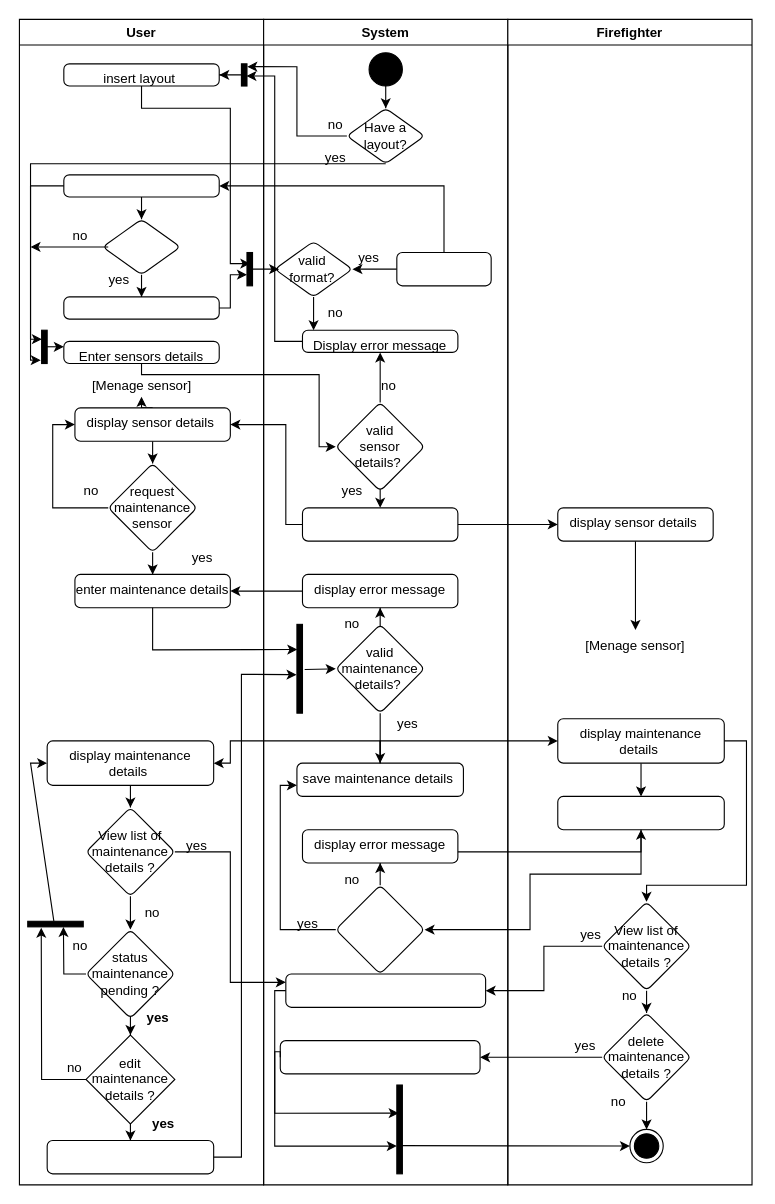
Image size: 775x1204. Some labels were removed from this diagram. Here are the shapes that lost their labels. From the top down, the centre of each, then its label:
the point at 141,185: display layout
the point at 141,246: edit layout?
the point at 443,268: save layout
the point at 141,307: update layout
the point at 379,524: save sensor details
the point at 640,812: update status maintenance
the point at 380,929: valid status maintenance?
the point at 385,990: view list of maintenance details
the point at 379,1057: delete maintenance details
the point at 130,1156: edit maintenance
